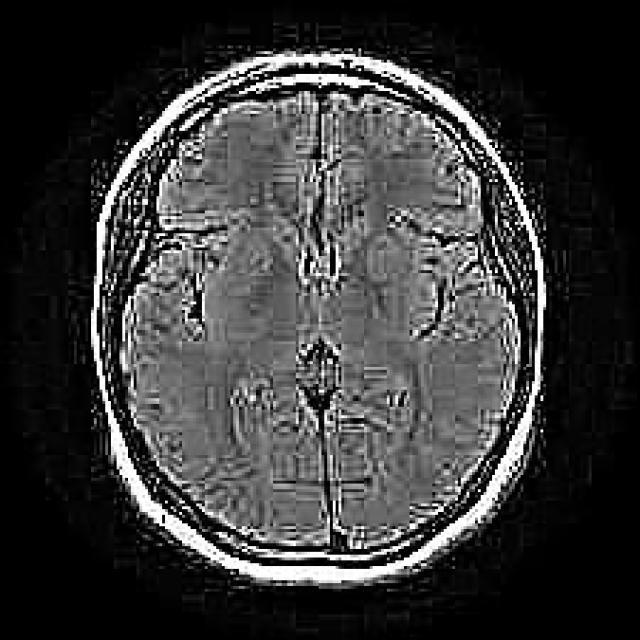notumor: (88, 51, 546, 592)
